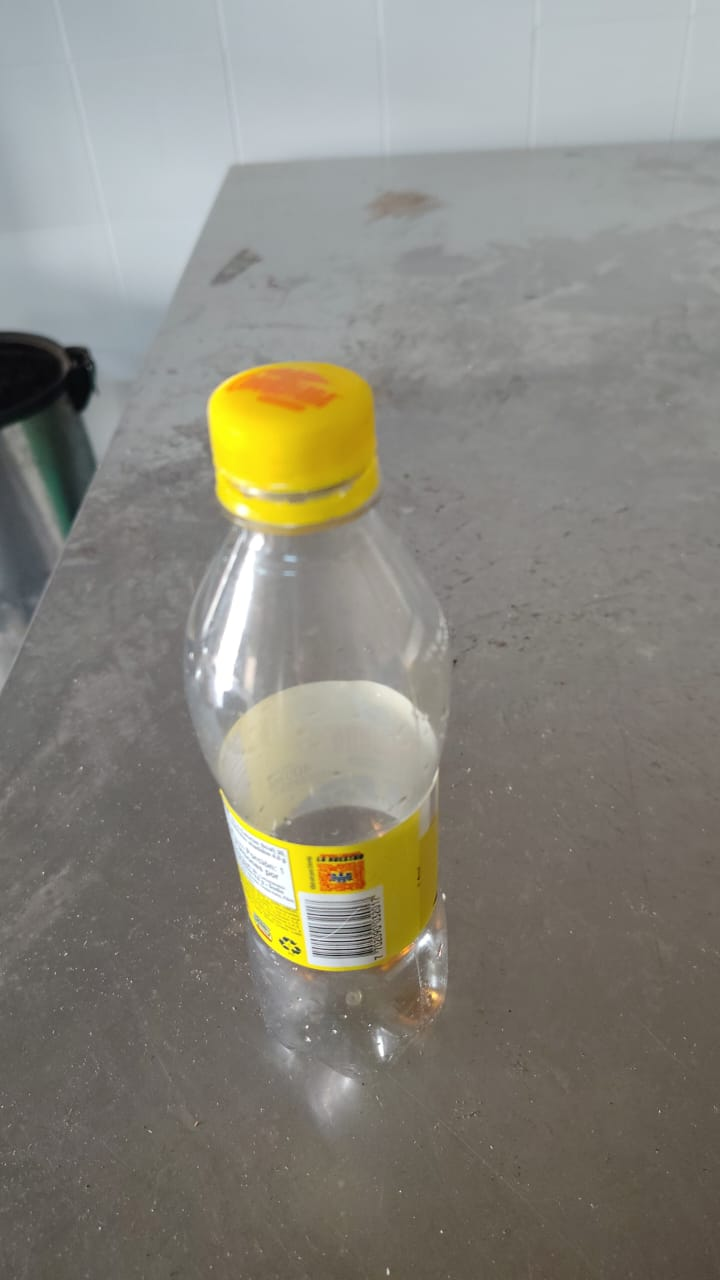Plastico: (182, 364, 455, 1078)
